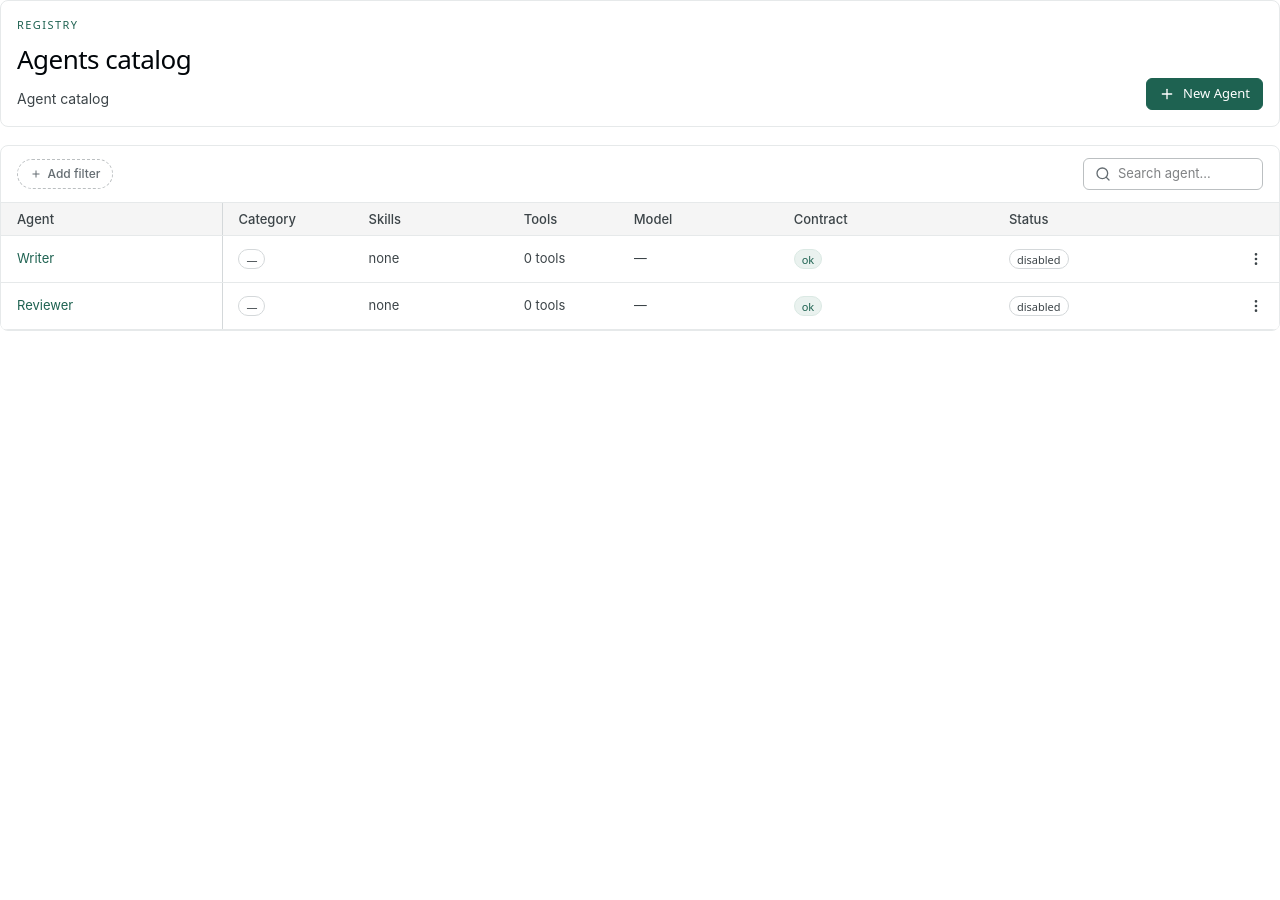
Test: RegistryCatalogSurface › opens a non-blocking clone dialog and validates the new agent id
The width and height of the screenshot is (1280, 900).
Click the button named "Actions for writer" at coordinates (1256, 259), box x1=1240 y1=243 x2=1272 y2=275
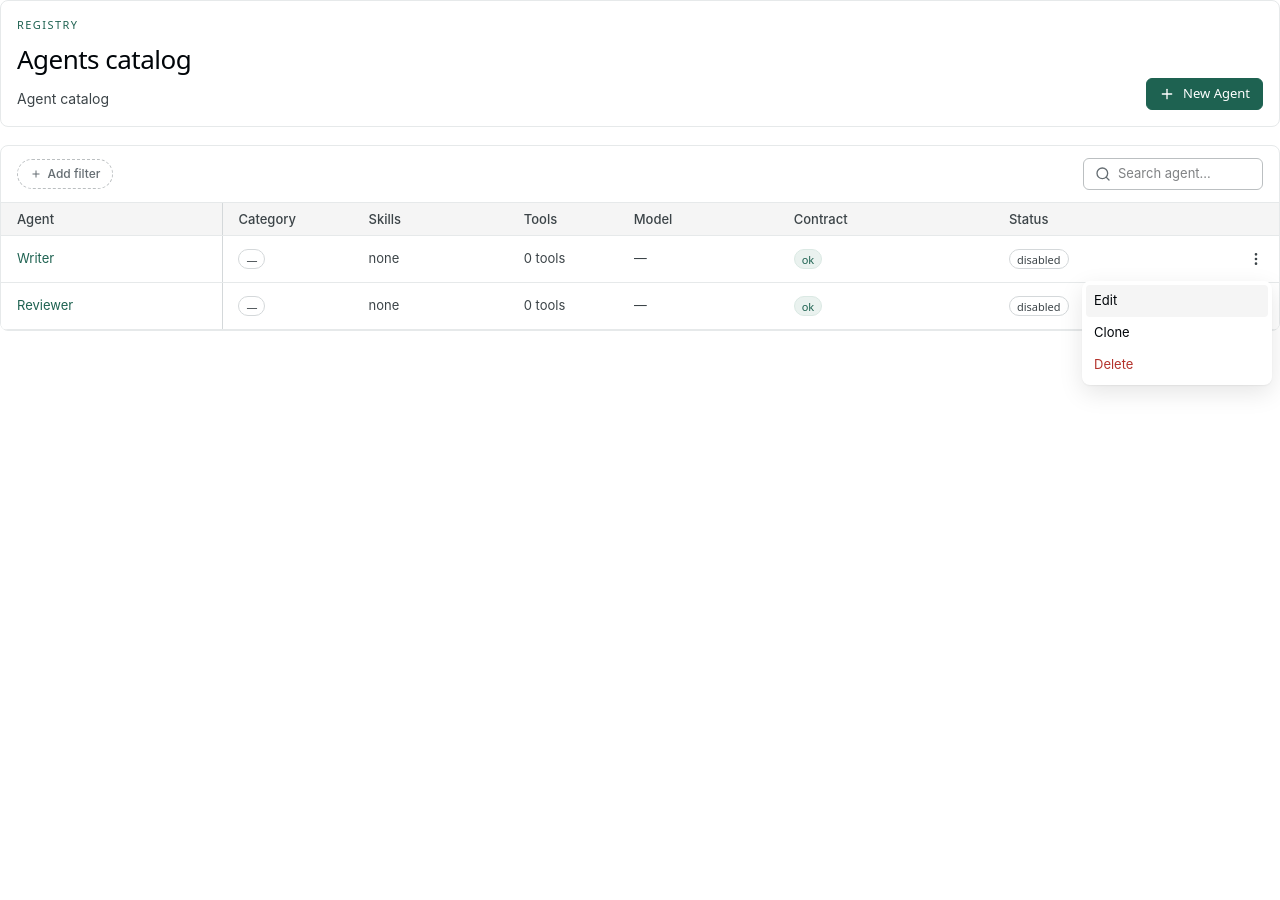
Click the menu item "Clone" at coordinates (1177, 333), box x1=1086 y1=317 x2=1268 y2=349
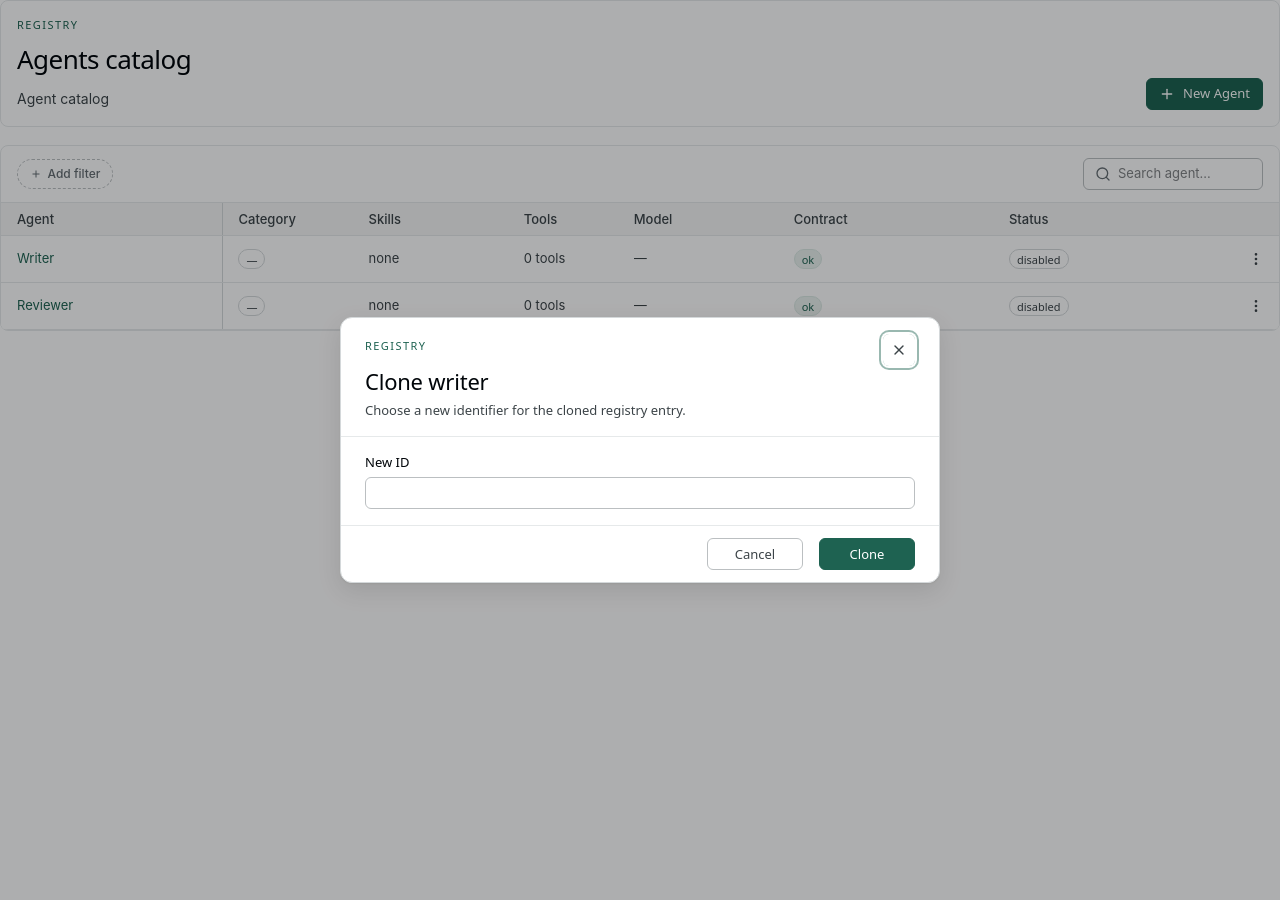
Check: the dialog "Clone writer" is shown, box x1=340 y1=317 x2=940 y2=583
Type "BAD ID" into the field labelled "New ID" at coordinates (640, 493), box x1=365 y1=477 x2=915 y2=509
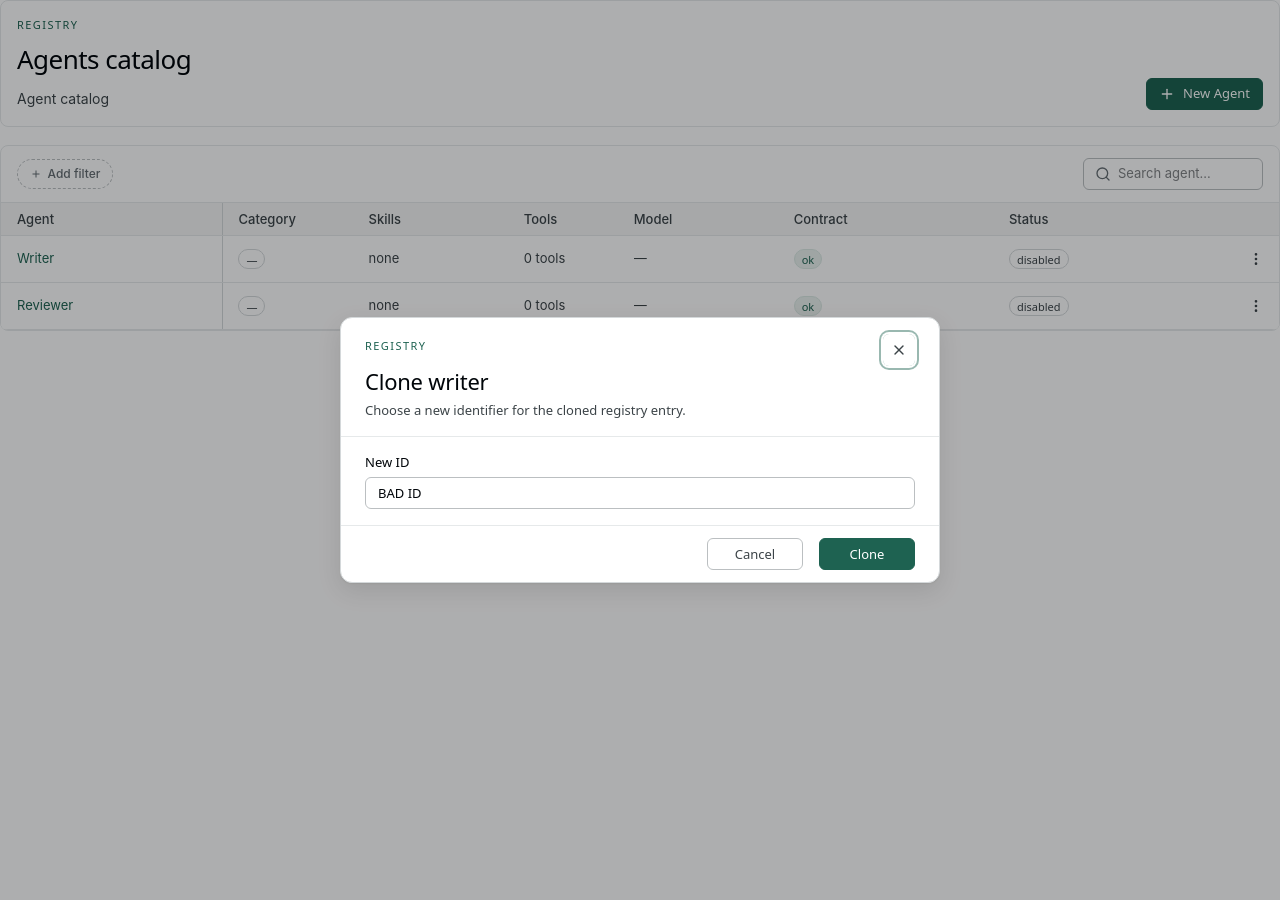
Click the button "Clone" at coordinates (867, 554), box x1=819 y1=538 x2=915 y2=570
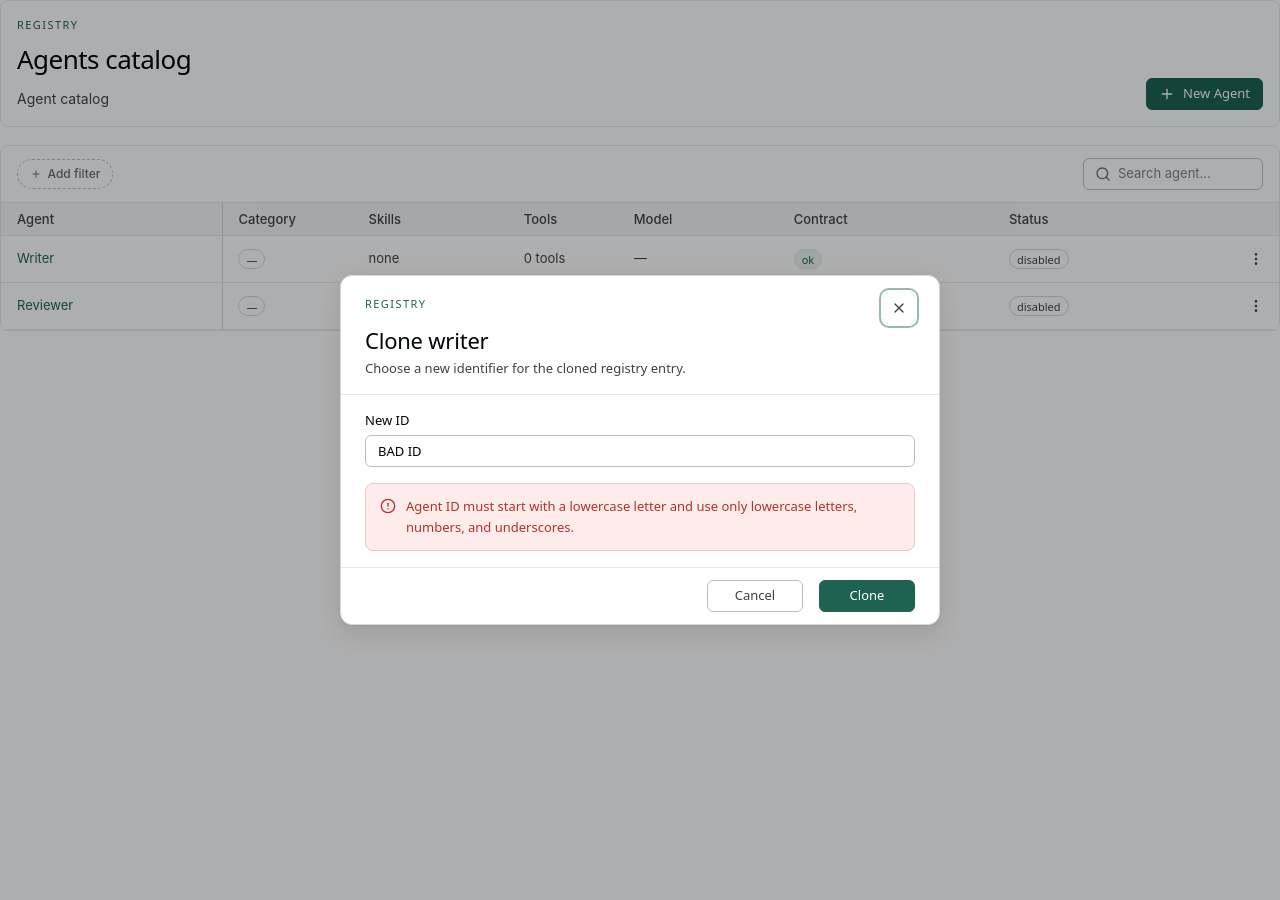
Check: the text "Agent ID must start with a lowercase letter" is shown, box x1=406 y1=497 x2=857 y2=536
